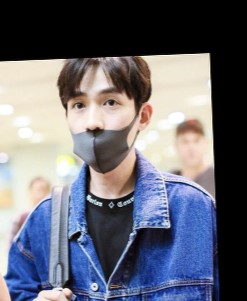mask_weared_incorrect: (65, 84, 139, 173)
without_mask: (177, 134, 204, 165)
